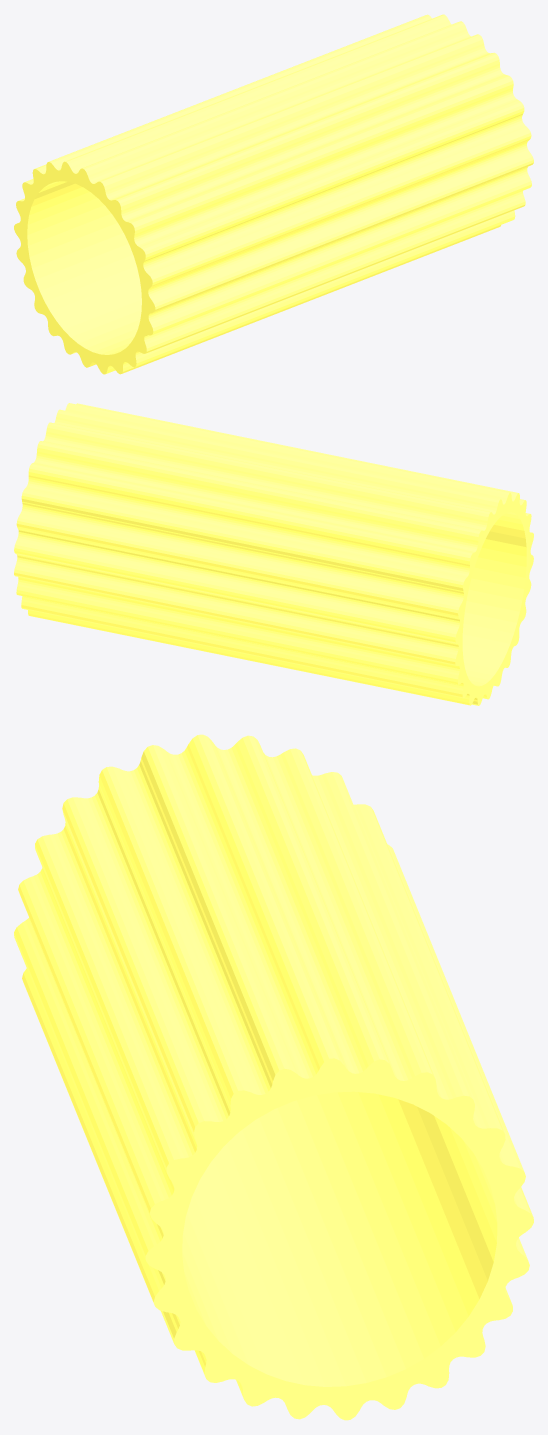
Rendered from Rigatoni.001.gltf.
The picture shows the model from 3 angles, top to bottom: view 1: azimuth 30°, elevation 25°; view 2: azimuth 150°, elevation 25°; view 3: azimuth 270°, elevation 25°; orthographic projection. The views are drawn at different scales.
Visible parts, largest first — view 1: Rigatoni.001; view 2: Rigatoni.001; view 3: Rigatoni.001.
Boxes of the visible parts, bbox=[...] form: Rigatoni.001: bbox=[14, 14, 533, 374]; Rigatoni.001: bbox=[14, 403, 533, 705]; Rigatoni.001: bbox=[14, 734, 533, 1420].
Bounding box in the file's own units: 3.14 × 1.49 × 1.81.
